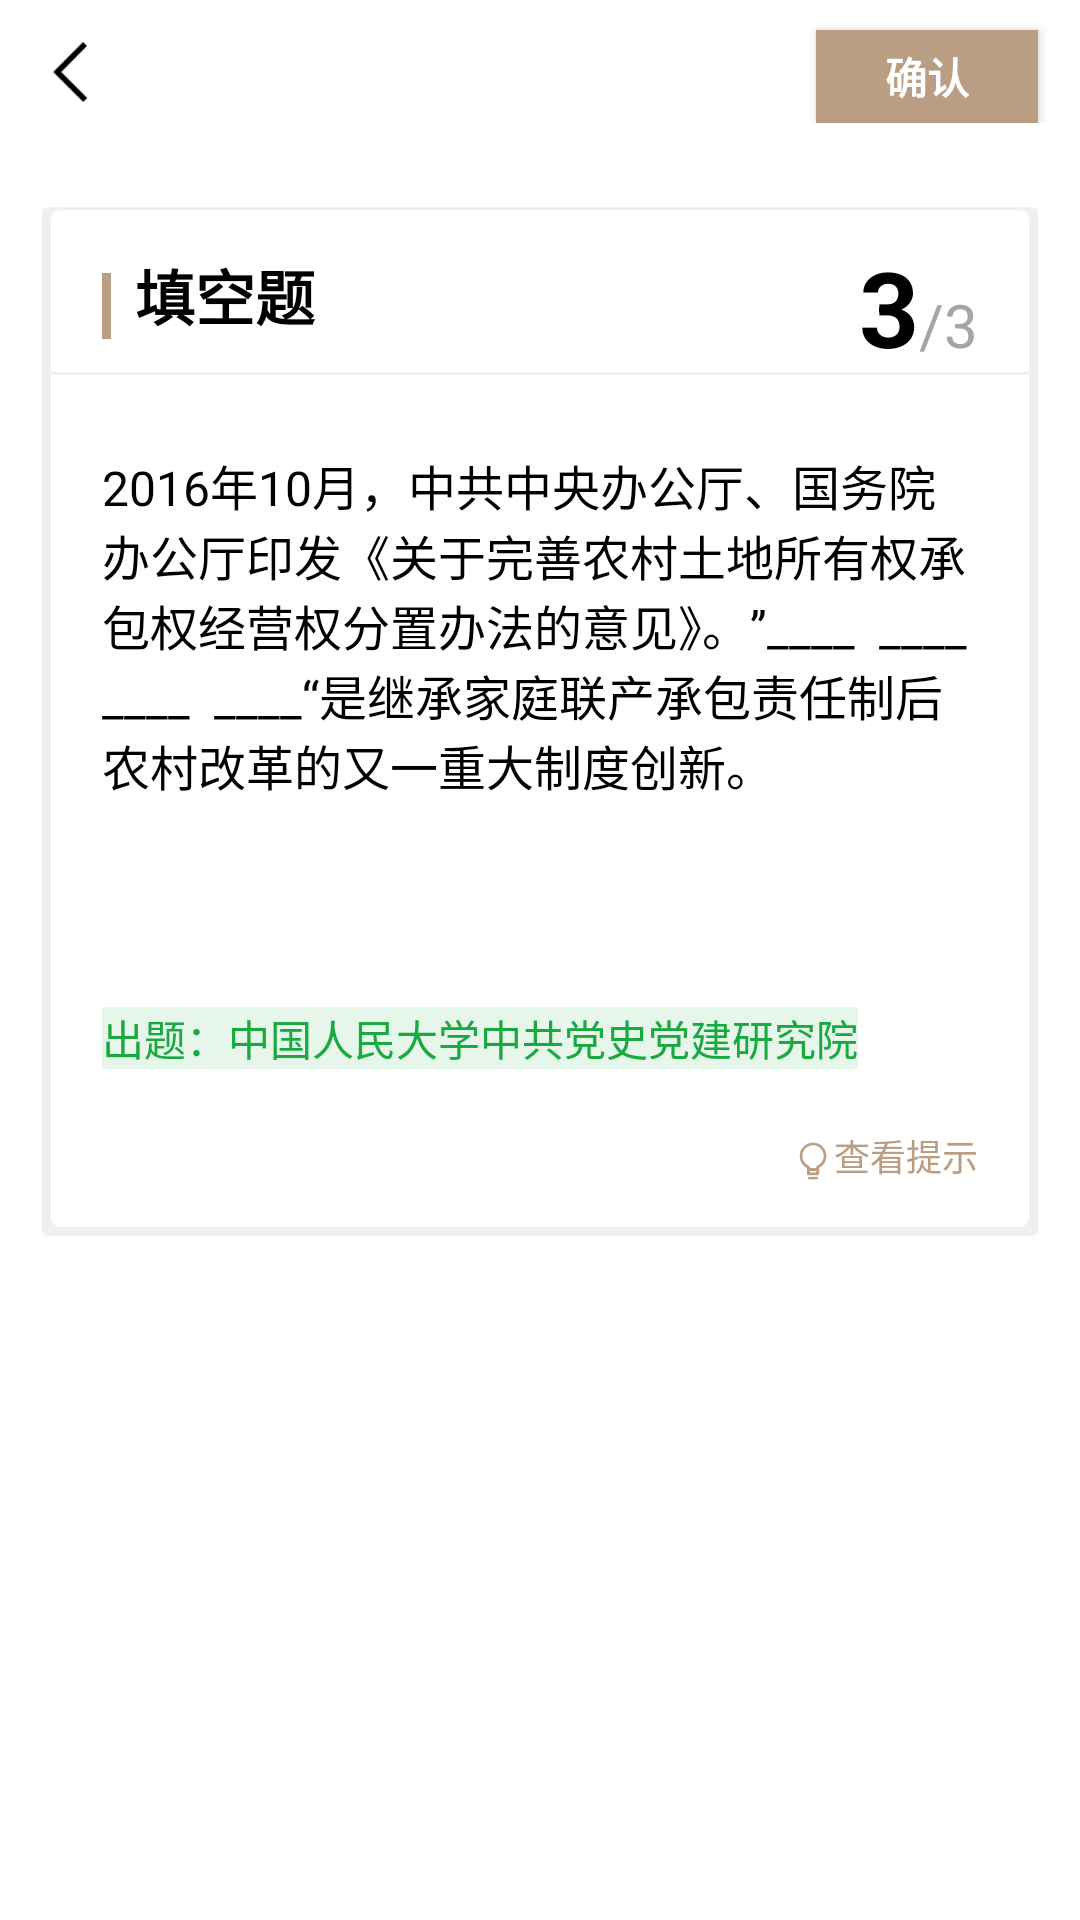

Where icons sit on this 1080px x 1920px app screen, as (x1, y1, x2, y2):
tis: (800, 1142, 827, 1180)
